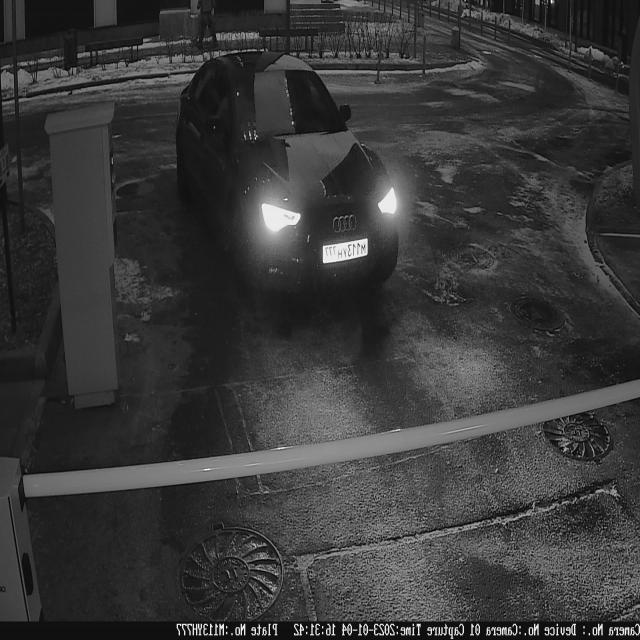car-plate-numbers: (322, 234, 372, 268)
